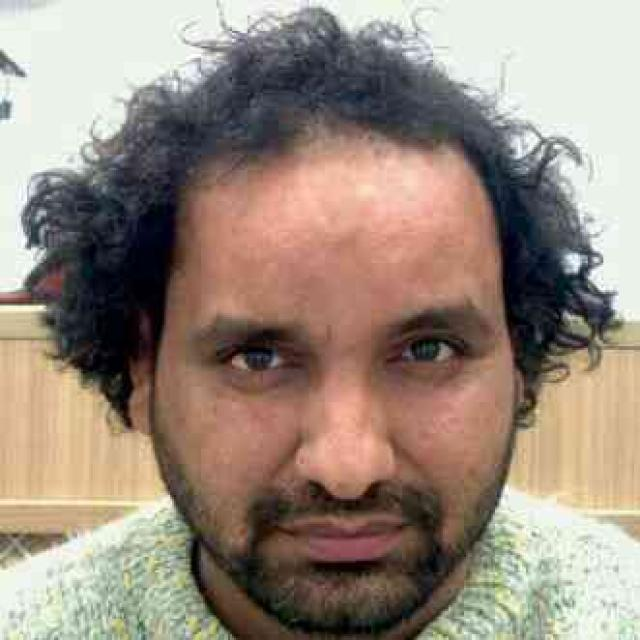Puffy Eyes - v3 Dark Circle: (222, 368, 291, 391)
